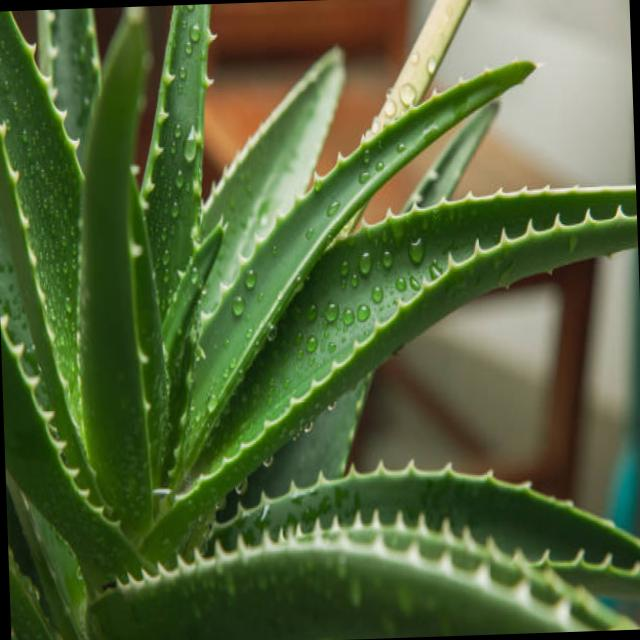AloeVera: (32, 18, 638, 628)
